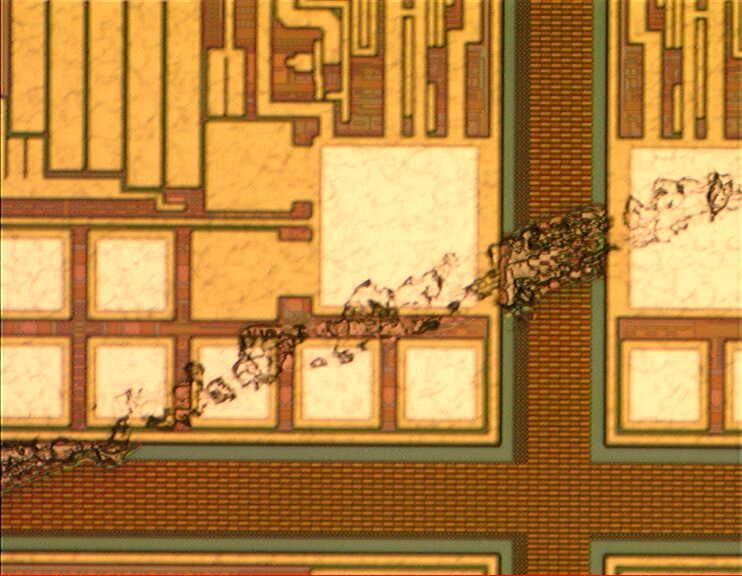SCRATCH: (1, 168, 742, 507)
